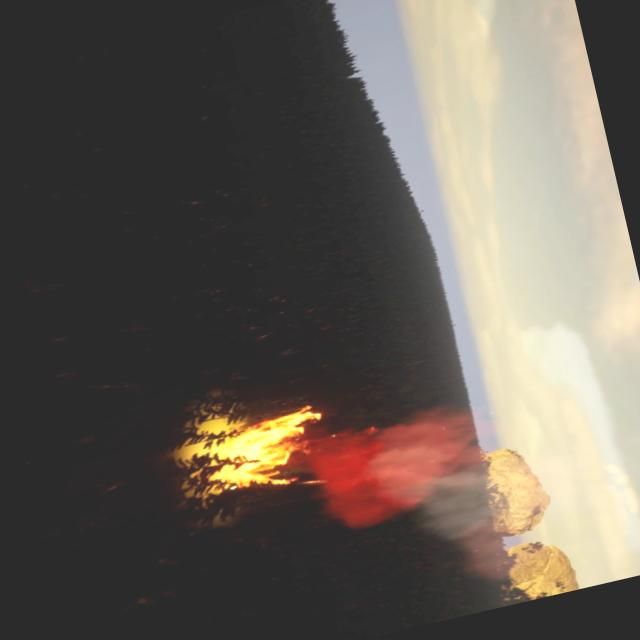fire: (198, 402, 336, 502)
smoke: (299, 399, 528, 616)
